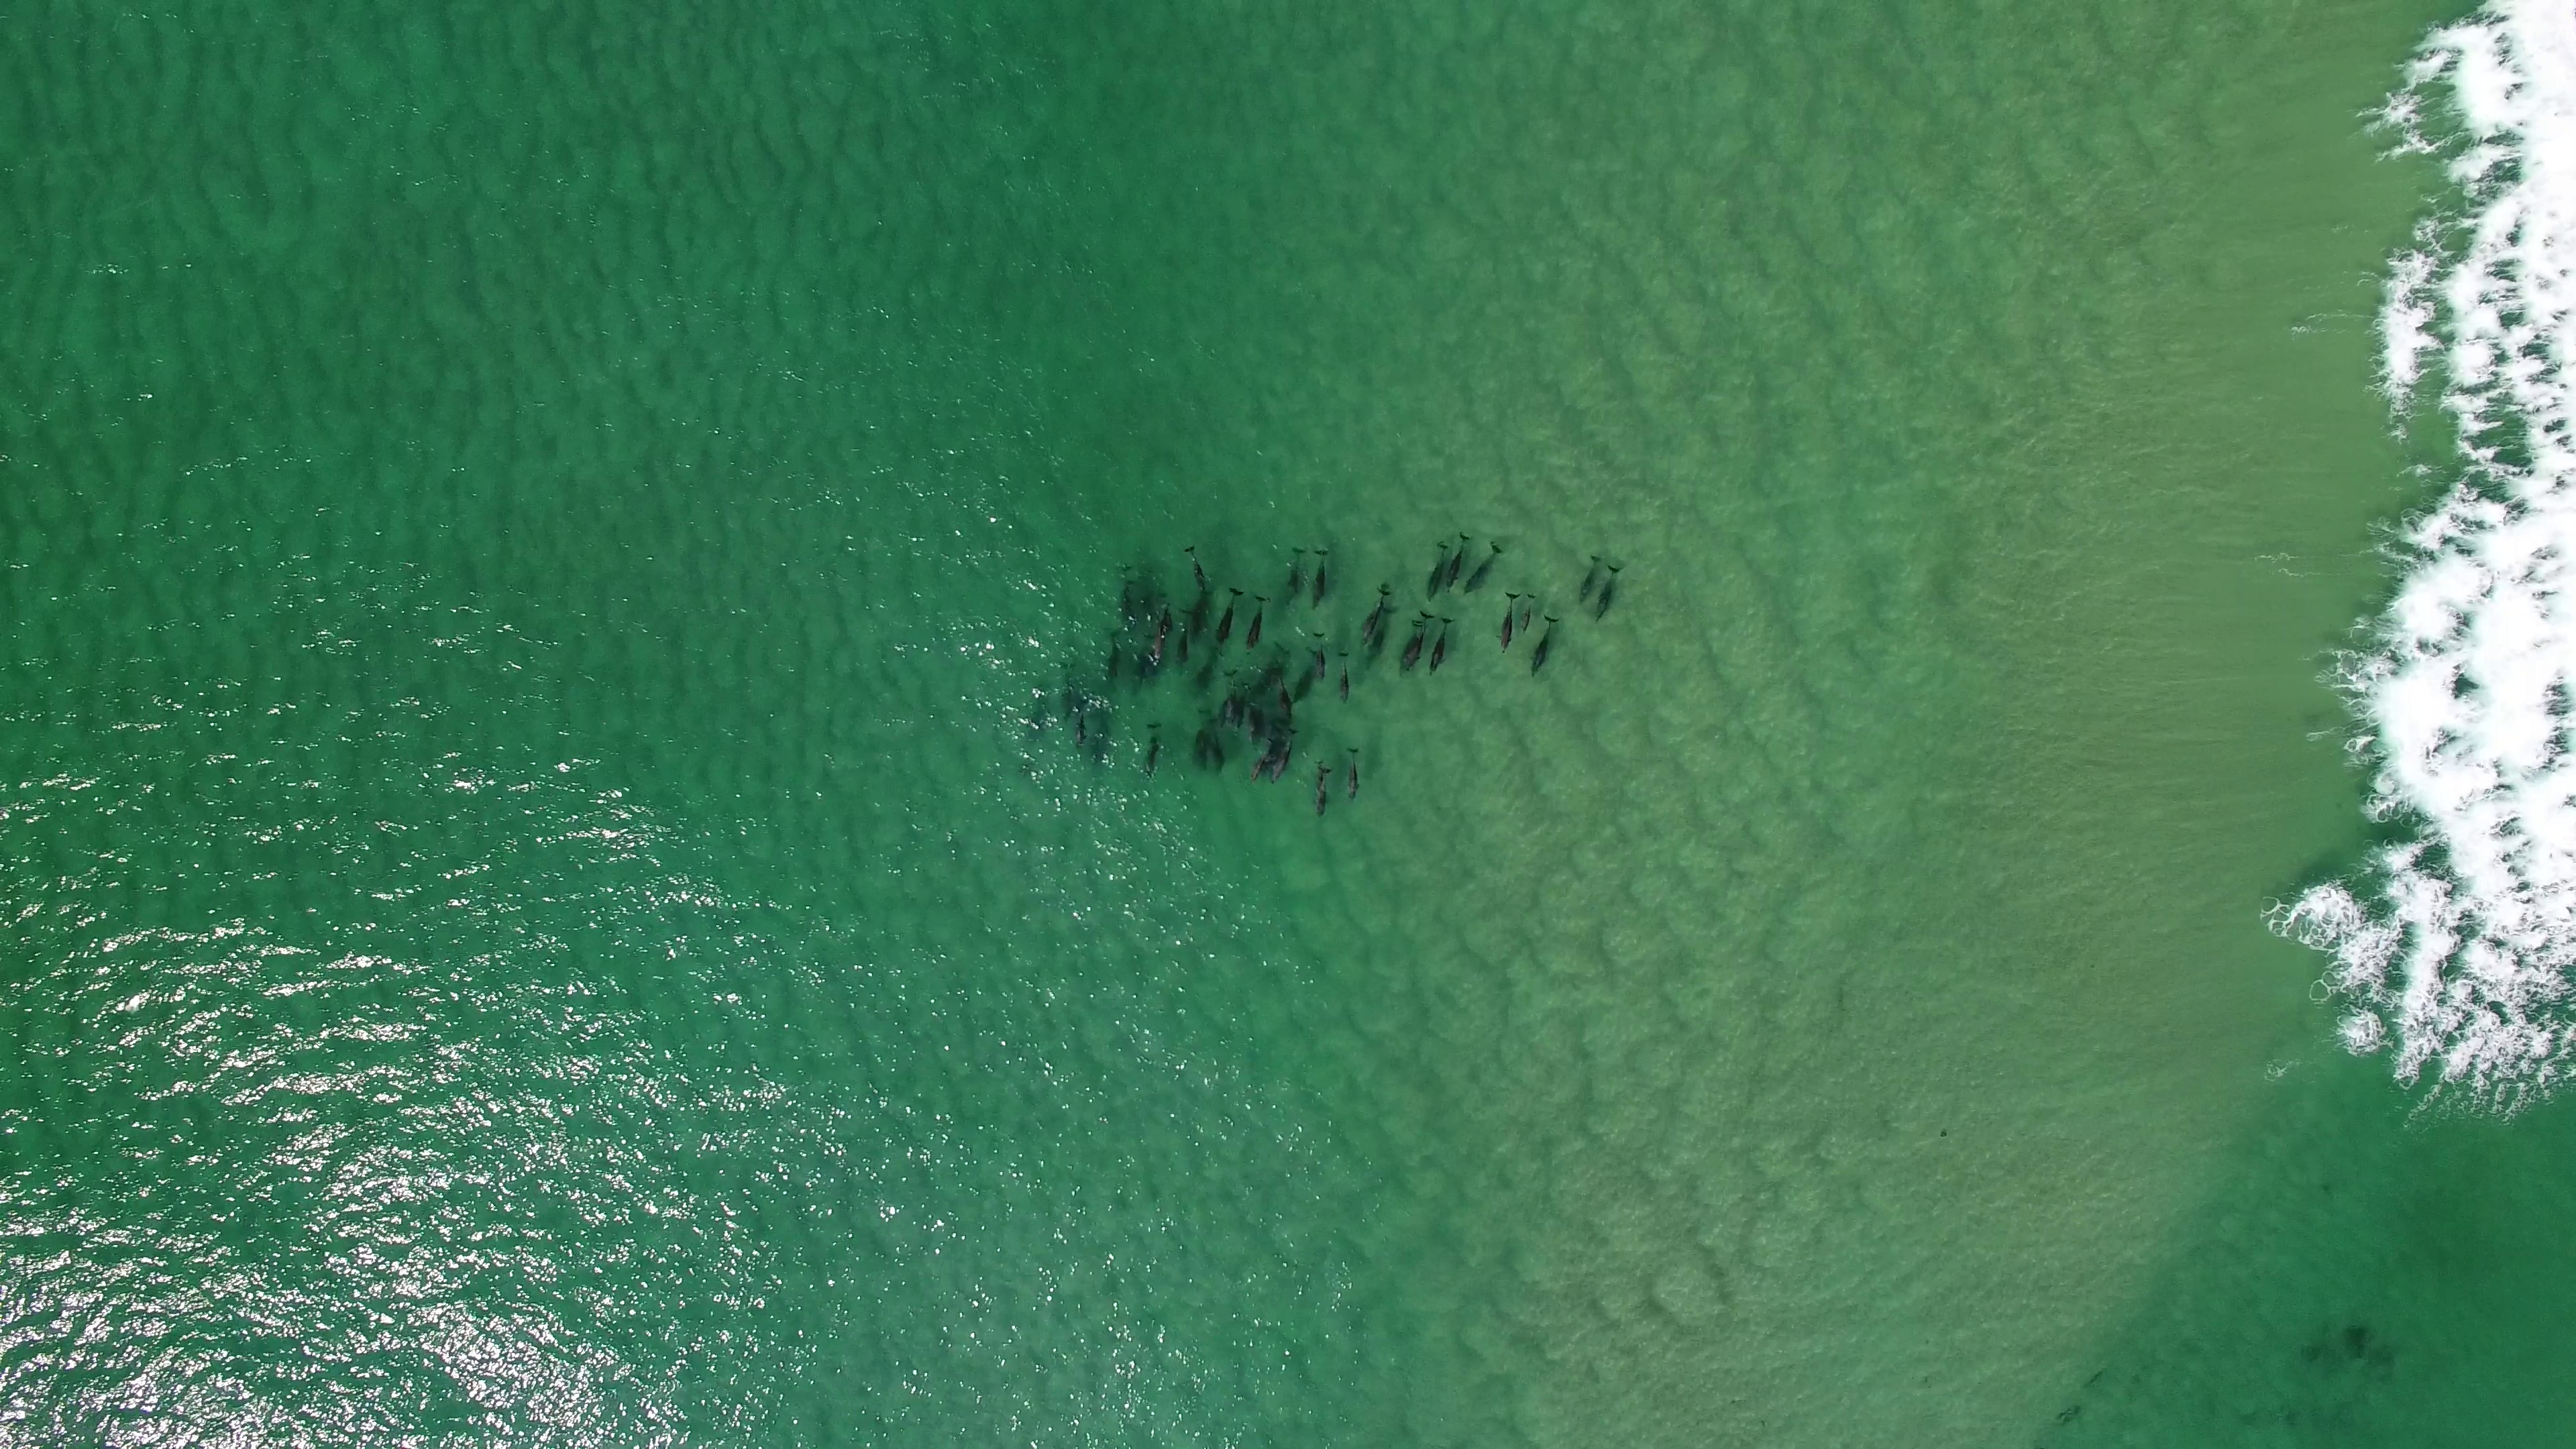dolphin: (1461, 541, 1507, 594), (1177, 545, 1215, 605), (1214, 586, 1244, 656), (1366, 607, 1399, 667), (1361, 582, 1392, 644), (1529, 612, 1559, 678), (1396, 621, 1426, 681), (1269, 729, 1299, 789), (1244, 591, 1270, 655), (1424, 540, 1449, 607), (1594, 563, 1624, 617), (1267, 667, 1295, 724), (1430, 616, 1456, 676), (1499, 587, 1522, 653), (1284, 545, 1307, 610), (1150, 603, 1173, 667), (1173, 607, 1194, 674), (1221, 669, 1240, 740), (1449, 531, 1470, 594), (1246, 738, 1277, 780), (1408, 610, 1433, 663), (1311, 547, 1332, 609), (1293, 653, 1318, 704), (1191, 708, 1210, 770), (1311, 763, 1330, 823), (1576, 556, 1599, 605), (1143, 722, 1162, 780), (1106, 625, 1123, 686), (1334, 649, 1352, 708), (1060, 658, 1074, 724), (1518, 589, 1537, 635), (1346, 745, 1361, 807), (1074, 699, 1090, 752), (1246, 695, 1261, 747), (1313, 630, 1325, 686)
